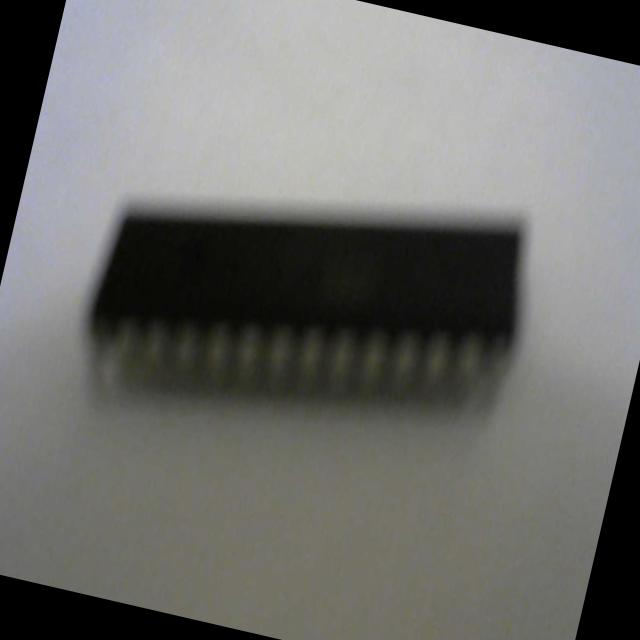atmega: (67, 124, 546, 480)
